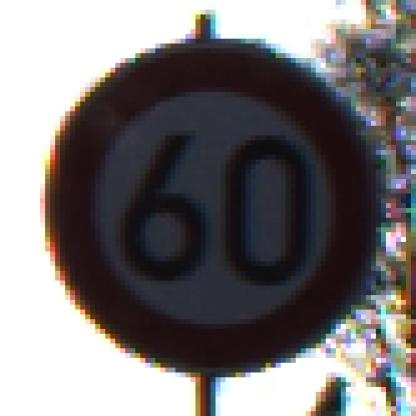Speed Limit 60: (46, 43, 371, 371)
